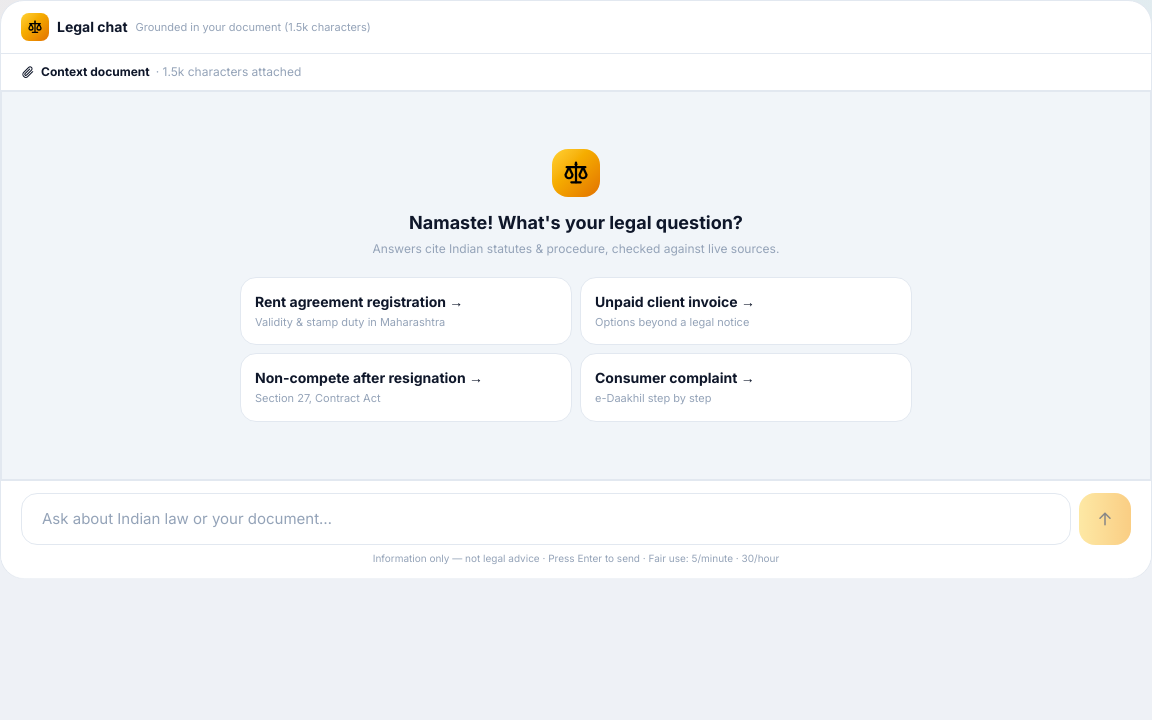
it: Ask page › sends a question and renders the threaded reply
Type "Is an 11-month agreement valid?" into the field with placeholder "Ask about Indian law or your document…" at (546, 519), box [21,493,1071,545]
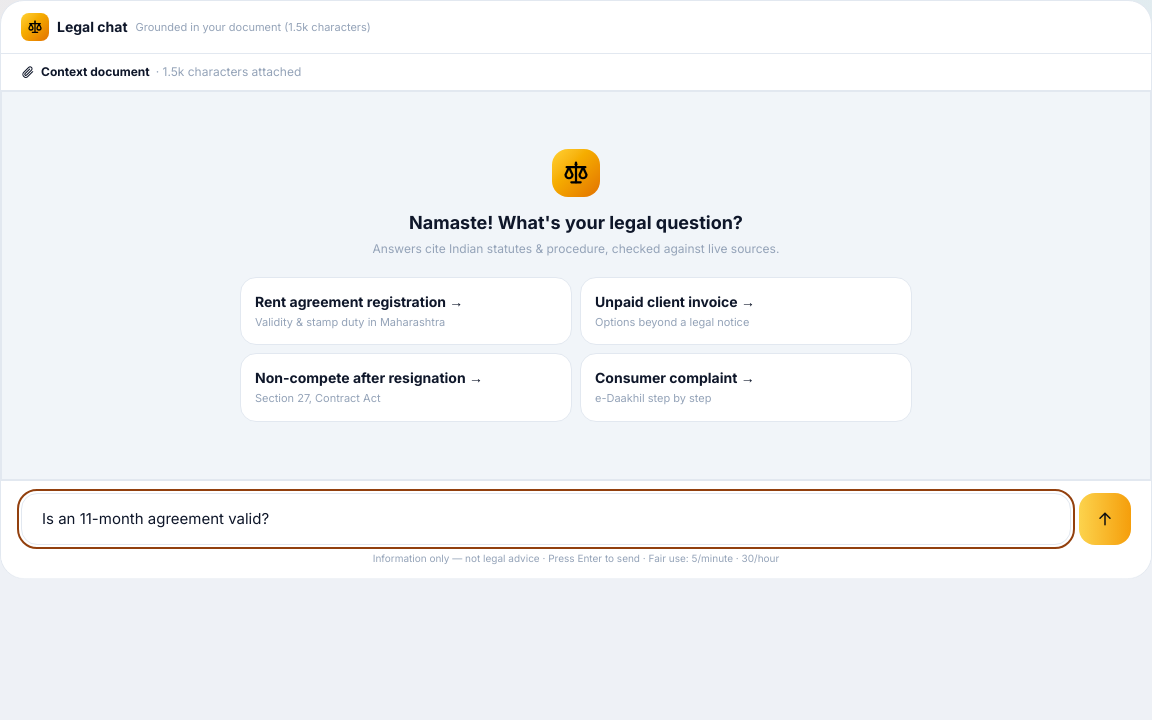
Click the button named "Send question" at (1105, 519), box [1079,493,1131,545]
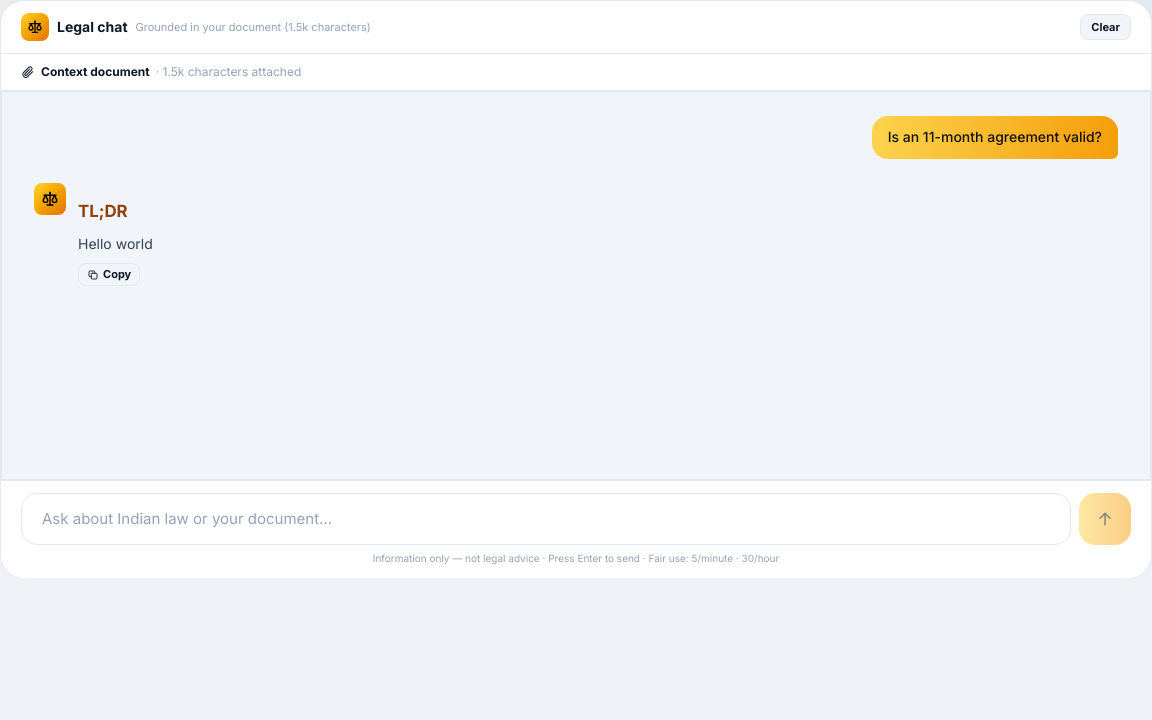
Check: the text "Is an 11-month agreement valid?" is shown, box [872,116,1118,159]
Check: the heading "TL;DR" is shown, box [78,201,128,221]
